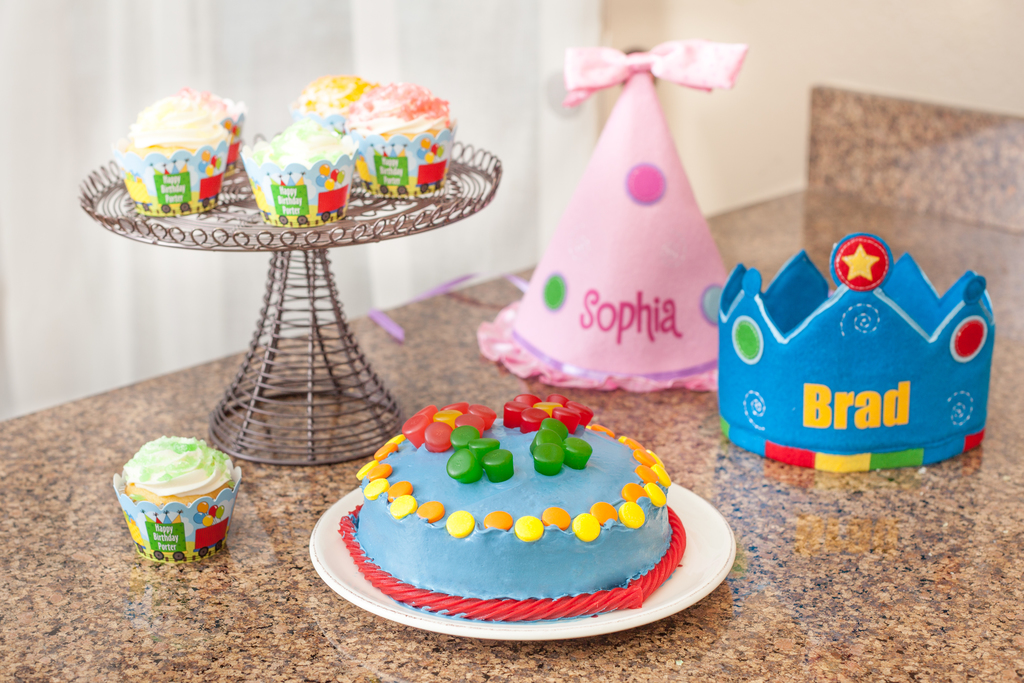cake: (339, 395, 687, 622)
